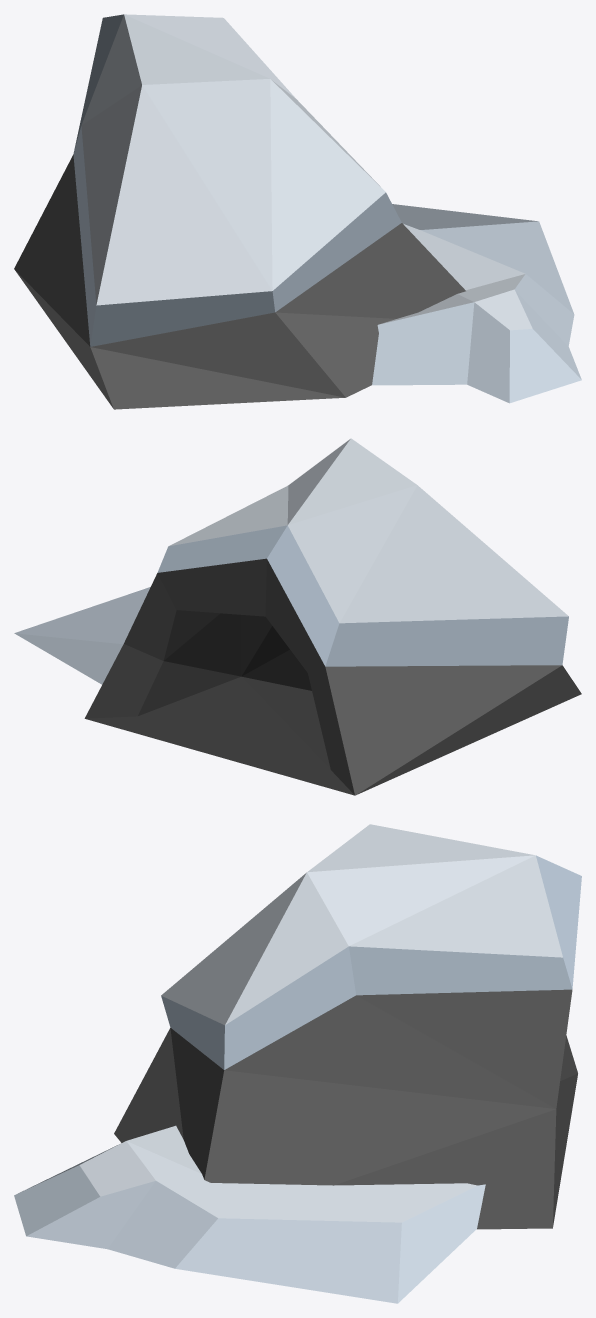
Rendered from CaveWinter_Alt3.fbx.
3 renders of one model, top to bottom at view 1: azimuth 30°, elevation 25°; view 2: azimuth 150°, elevation 25°; view 3: azimuth 270°, elevation 25°, orthographic. The views are drawn at different scales.
Visible parts, largest first — view 1: CaveWinter_Alt3; view 2: CaveWinter_Alt3; view 3: CaveWinter_Alt3.
Part boxes in pixels (x1=…): CaveWinter_Alt3: x1=14, y1=14, x2=581, y2=409; CaveWinter_Alt3: x1=14, y1=438, x2=581, y2=795; CaveWinter_Alt3: x1=14, y1=824, x2=581, y2=1303.
Size of the model in its own units: 2.71 by 1.27 by 2.42.
